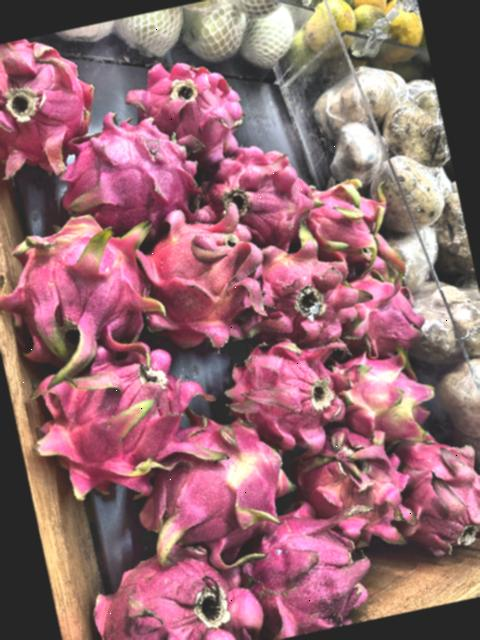buah-naga-belum-matang: (136, 404, 295, 563), (329, 337, 440, 452)
buah-naga-matang: (29, 328, 206, 488), (0, 200, 161, 370), (51, 104, 203, 245), (130, 204, 264, 348), (85, 535, 265, 640), (237, 498, 374, 633), (124, 42, 257, 176), (241, 226, 371, 362), (294, 411, 416, 542), (222, 326, 342, 454), (289, 162, 410, 286), (0, 28, 100, 172), (198, 133, 314, 255), (383, 419, 480, 562), (333, 254, 430, 361)
